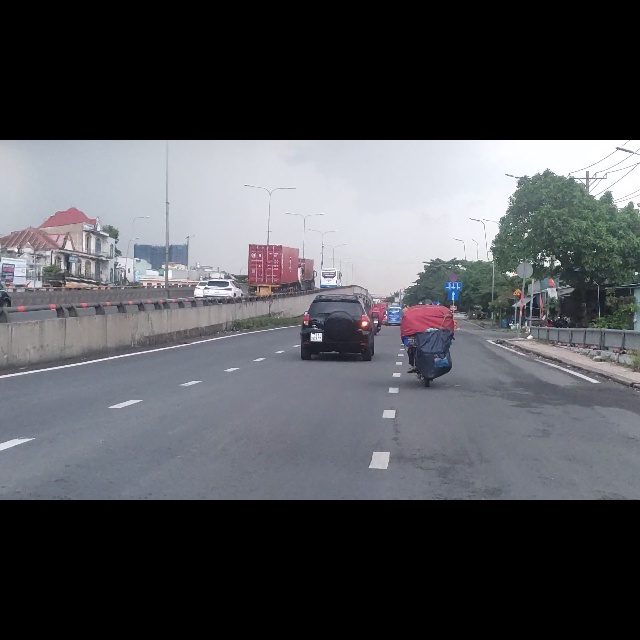bien_nguy_hiem: (448, 267, 459, 286), (450, 239, 458, 252)
